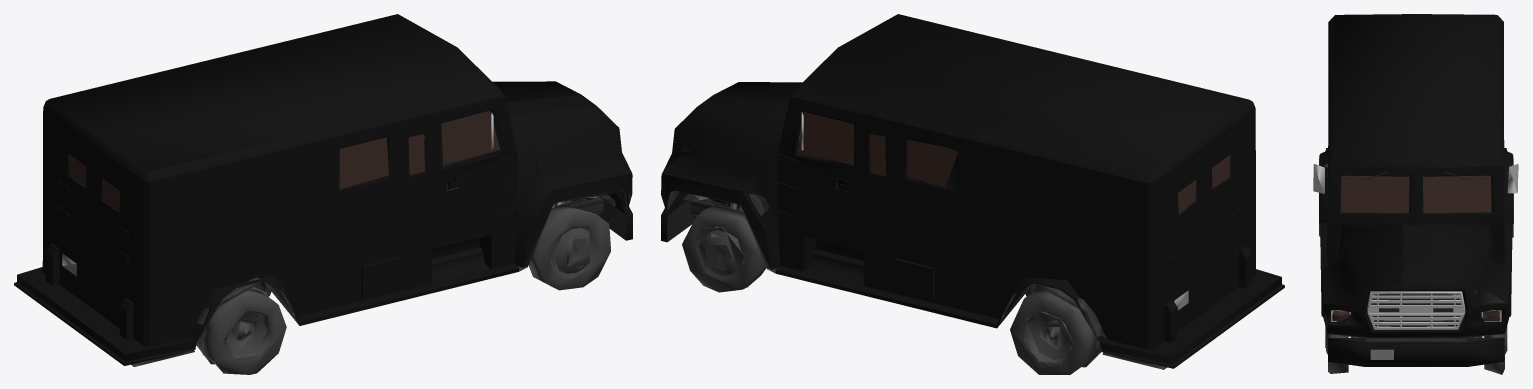
Rendered from bw-armored.lod0.glb.
3 renders of one model, left to right at view 1: azimuth 30°, elevation 25°; view 2: azimuth 150°, elevation 25°; view 3: azimuth 270°, elevation 25°, orthographic. The views are drawn at different scales.
Visible parts, largest first — view 1: MD84Armored_Headlights_Glass_UCB_Lights_and_Glass_Transperen, MD84Armored_Bottom_UCB_BOTTOM_0; view 2: MD84Armored_Headlights_Glass_UCB_Lights_and_Glass_Transperen, MD84Armored_Bottom_UCB_BOTTOM_0; view 3: MD84Armored_Headlights_Glass_UCB_Lights_and_Glass_Transperen, MD84Armored_Bottom_UCB_BOTTOM_0.
Part boxes in pixels (<box>): MD84Armored_Headlights_Glass_UCB_Lights_and_Glass_Transperen: <box>14,14,632,374</box>; MD84Armored_Bottom_UCB_BOTTOM_0: <box>71,112,631,366</box>; MD84Armored_Headlights_Glass_UCB_Lights_and_Glass_Transperen: <box>661,14,1284,374</box>; MD84Armored_Bottom_UCB_BOTTOM_0: <box>664,111,1226,369</box>; MD84Armored_Headlights_Glass_UCB_Lights_and_Glass_Transperen: <box>1319,14,1513,374</box>; MD84Armored_Bottom_UCB_BOTTOM_0: <box>1313,159,1518,342</box>.
Bounding box in the file's own units: 6.29 × 2.56 × 2.58.
2 materials, 1 textured.
